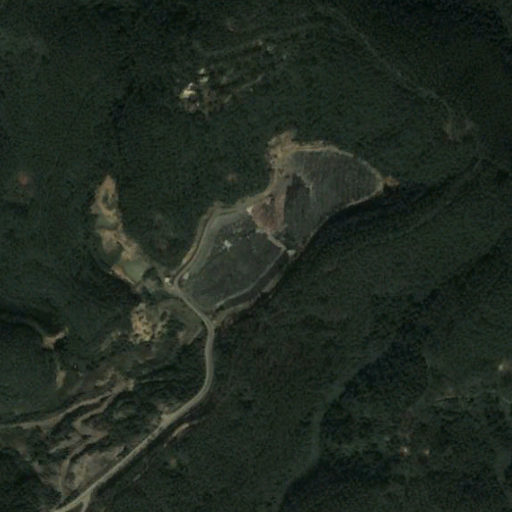lf: (175, 140, 384, 316)
